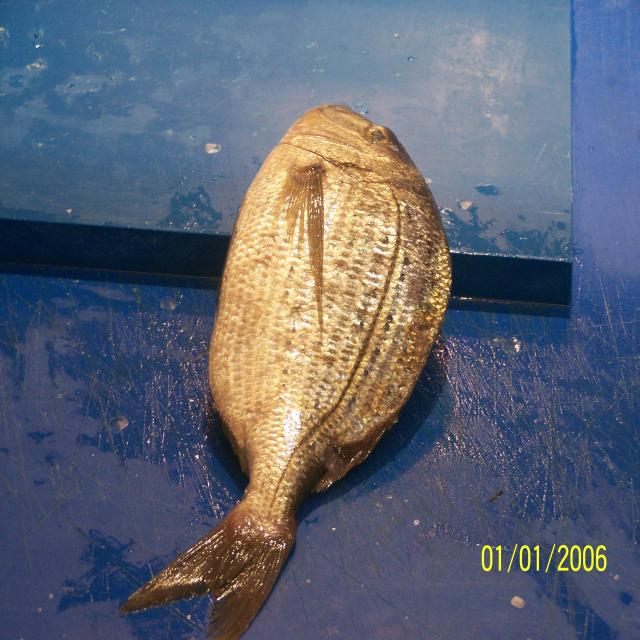Red-Sea-Bream-mercan-: (120, 103, 453, 640)
